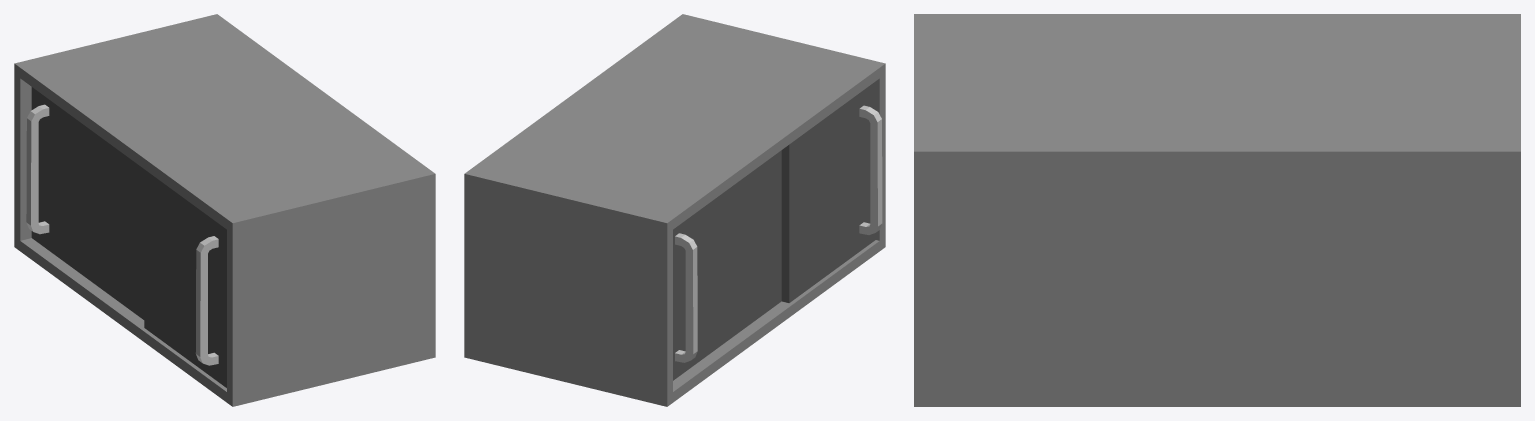
File: Small Counter With Cupboards.fbx
3 views of the same model, side by side, from view 1: azimuth 30°, elevation 25°; view 2: azimuth 150°, elevation 25°; view 3: azimuth 270°, elevation 25° (orthographic). The views are drawn at different scales.
Visible parts, largest first — view 1: Small Counter With Cupboards; view 2: Small Counter With Cupboards; view 3: Small Counter With Cupboards.
Boxes of the visible parts, <box> form: Small Counter With Cupboards: <box>14,14,435,406</box>; Small Counter With Cupboards: <box>464,14,885,406</box>; Small Counter With Cupboards: <box>914,14,1520,406</box>.
Bounding box in the file's own units: 68.34 × 55.16 × 119.
